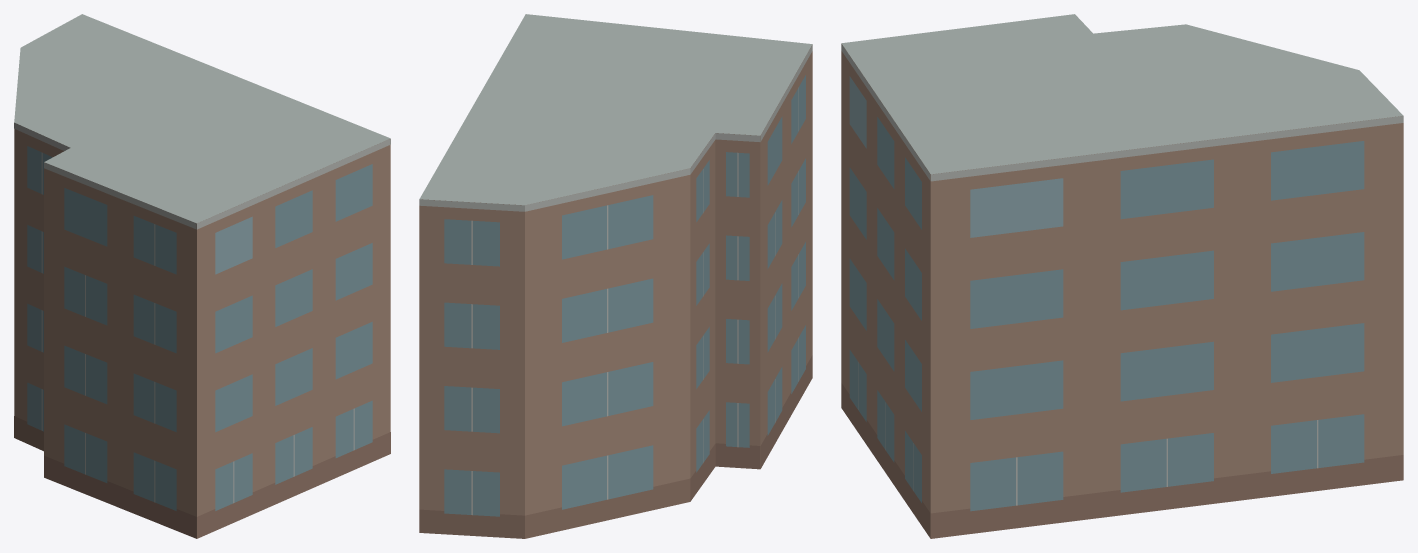
The model's file is survey-upis-32961204.glb.
3 views of the same model, side by side, from view 1: azimuth 30°, elevation 25°; view 2: azimuth 150°, elevation 25°; view 3: azimuth 270°, elevation 25° (orthographic). The views are drawn at different scales.
Parts seen in each view (by area): view 1: survey-upis-32961204.tmp; view 2: survey-upis-32961204.tmp; view 3: survey-upis-32961204.tmp.
Part boxes in pixels (x1=…): survey-upis-32961204.tmp: x1=14, y1=14, x2=390, y2=538; survey-upis-32961204.tmp: x1=419, y1=14, x2=812, y2=538; survey-upis-32961204.tmp: x1=841, y1=14, x2=1403, y2=538.
Bounding box in the file's own units: 11.8 × 12.5 × 17.49.
